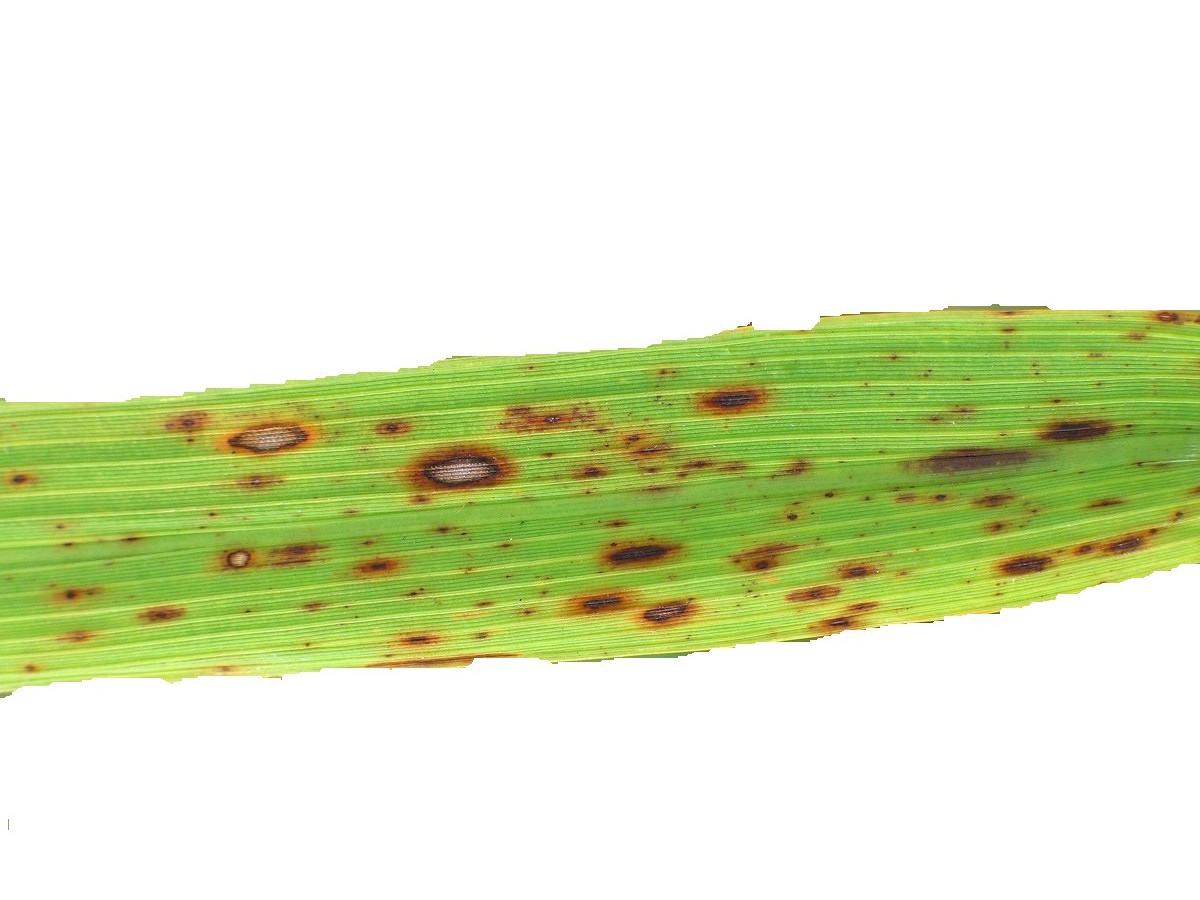brown_spot: (148, 377, 941, 627)
